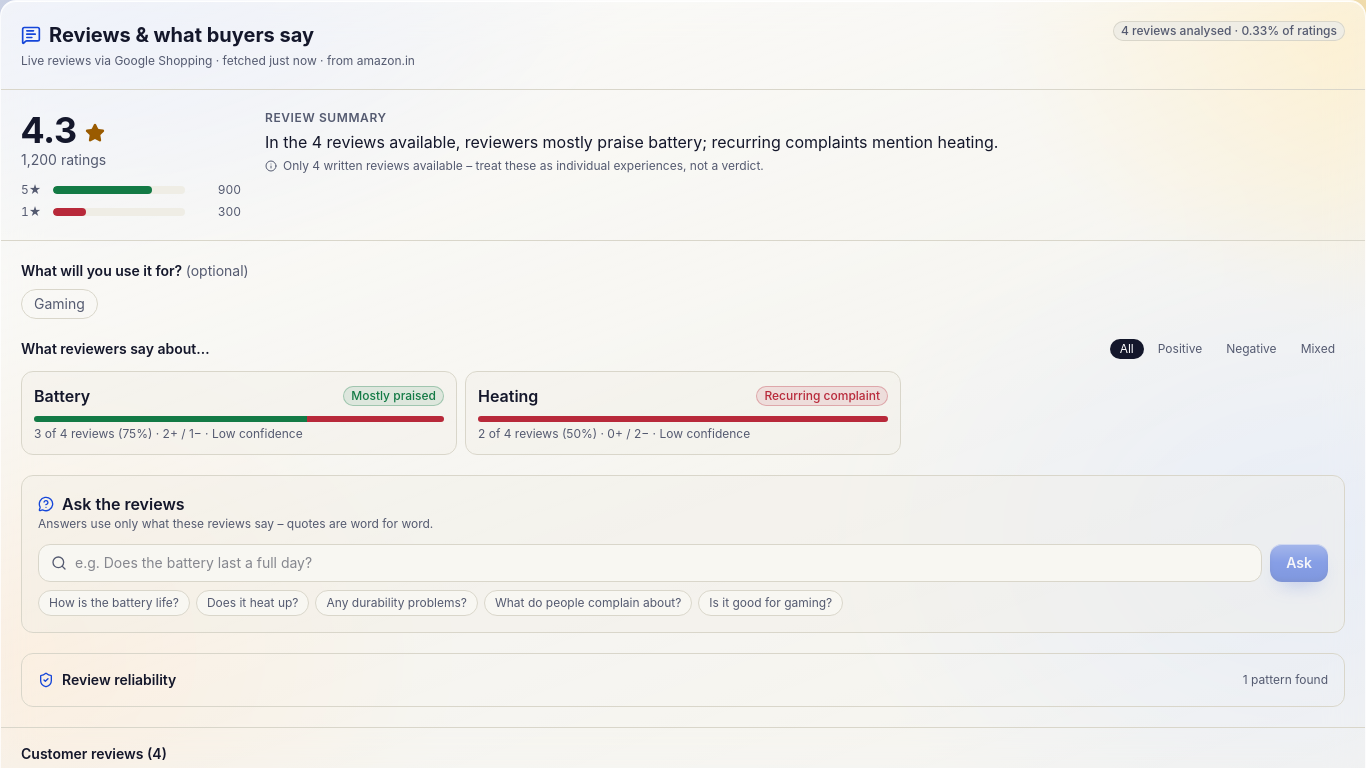
Test: ReviewsSection › shows origin, coverage and the aspect grid; selecting an aspect filters reviews and shows evidence
Expected: the text with test id "review-origin" shows "Live reviews via Google Shopping", [21,53,415,69]
Expected: the element with test id "review-coverage" shows "individual experiences", [283,158,764,173]
Step 1. Click the button with test id "aspect-card" that starts with "Heating" → (683, 413), box [465,371,901,455]
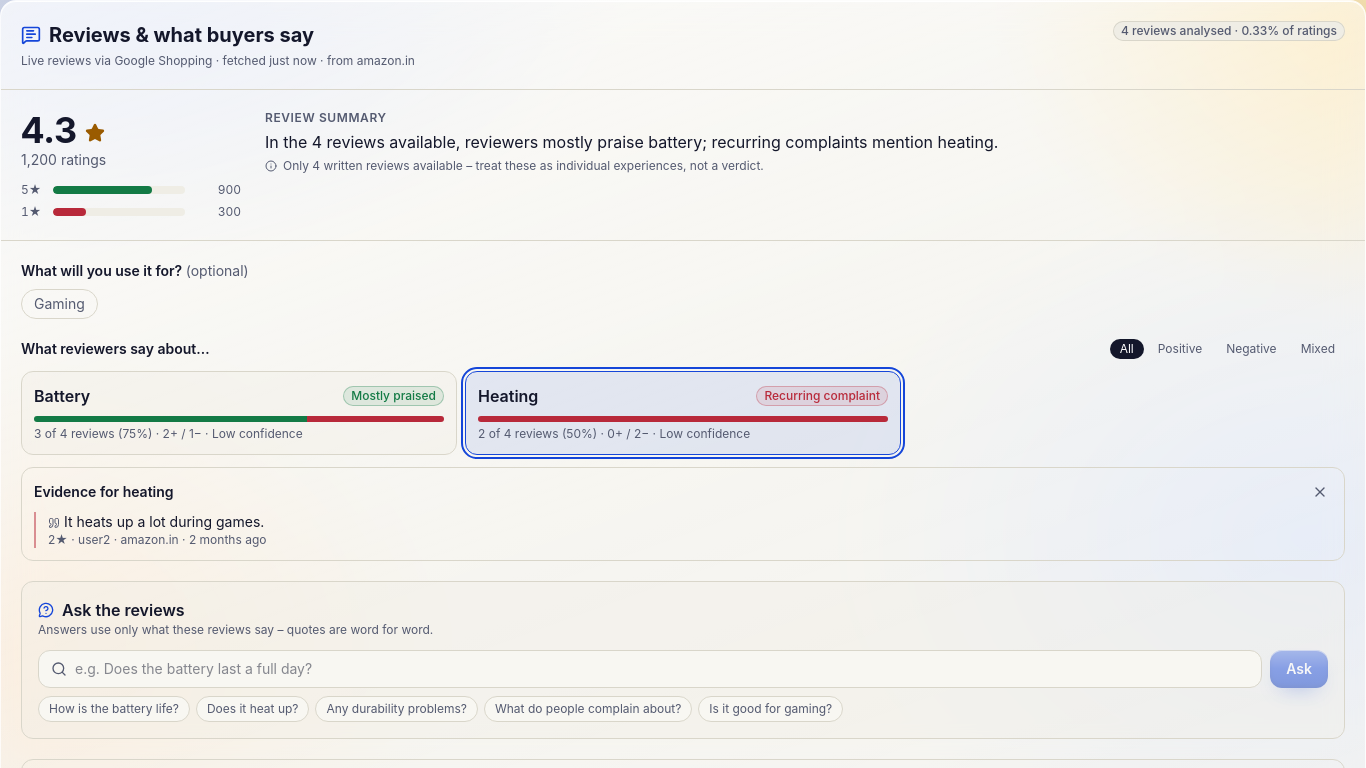
Now the element with test id "aspect-evidence" shows "It heats up a lot during games.", box [64,513,264,530]
Step 2. Click the radio button labelled "positive" → (1180, 349), box [1148,339,1212,359]
(page scrolled)
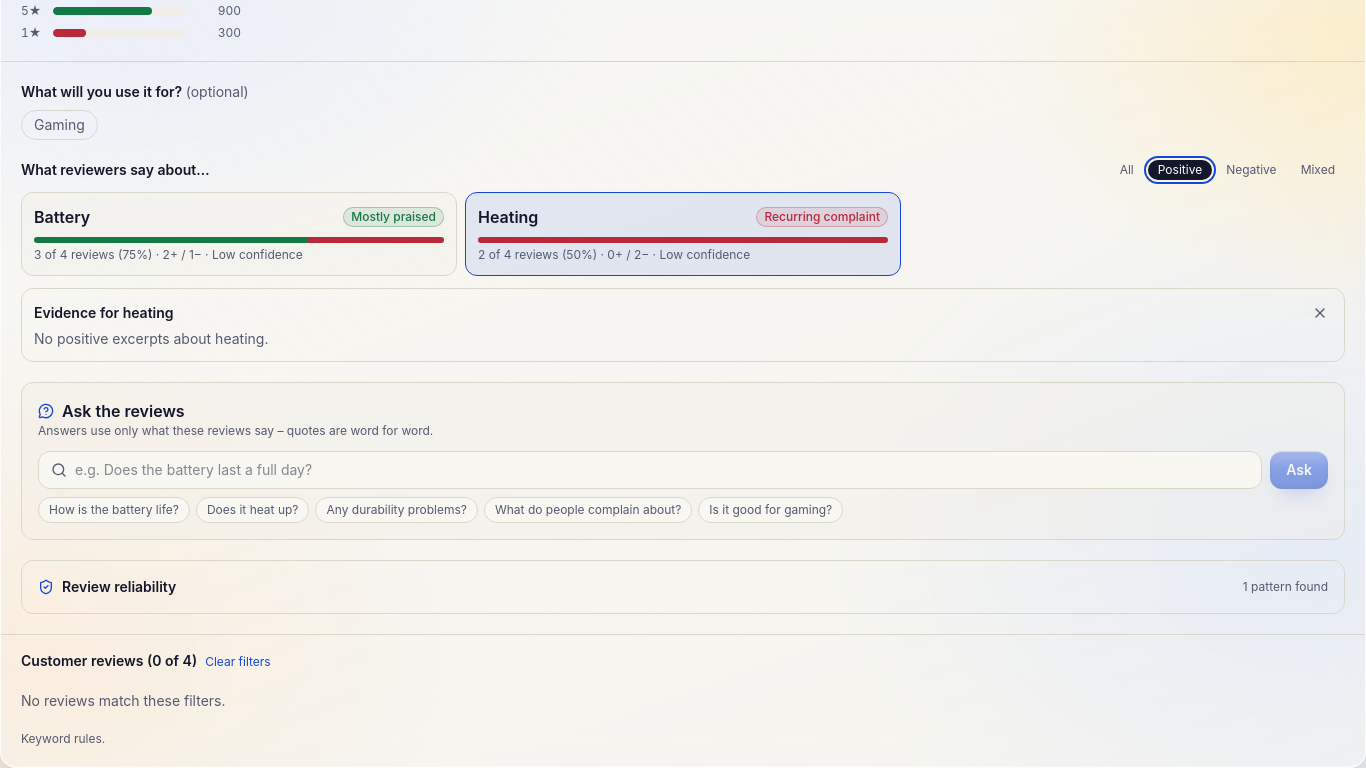
Now the list item "No reviews match these filters." is shown, box [21,692,226,709]
